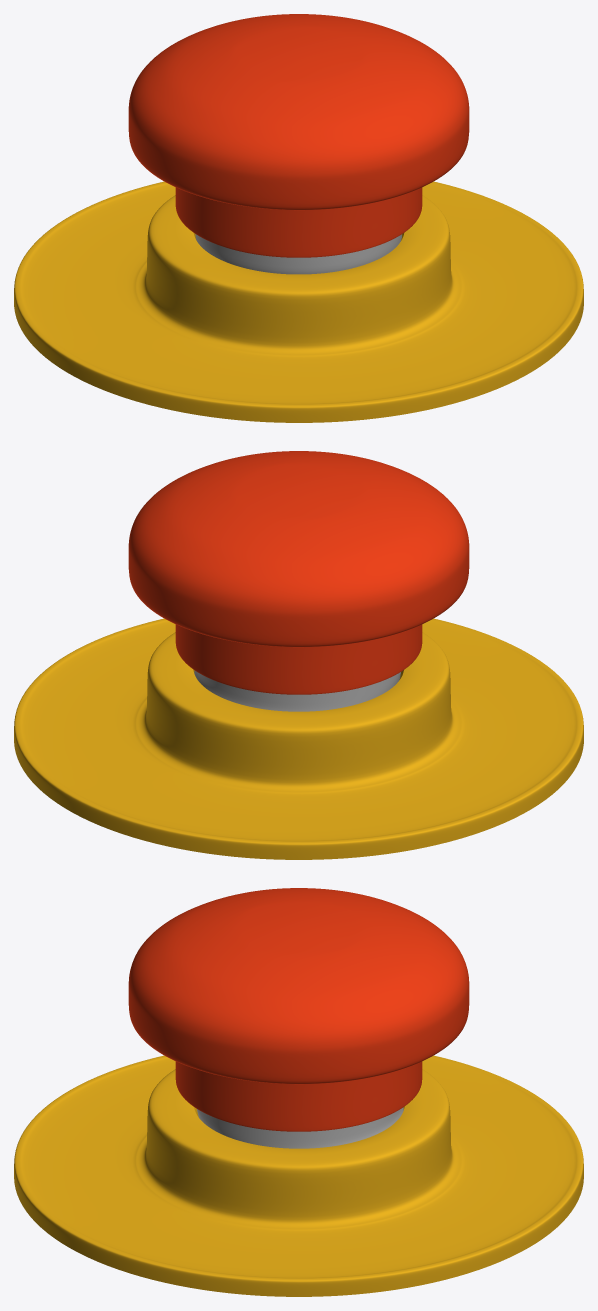
Rendered from LastButtonB.fbx.
3 views of the same model, one above another, from view 1: azimuth 30°, elevation 25°; view 2: azimuth 150°, elevation 25°; view 3: azimuth 270°, elevation 25° (orthographic).
Visible parts, largest first — view 1: Red pannic button; view 2: Red pannic button; view 3: Red pannic button.
Part boxes in pixels (x1,y1,x2,y2): Red pannic button: (14, 14, 583, 422); Red pannic button: (14, 451, 583, 859); Red pannic button: (14, 888, 583, 1296).
Bounding box in the file's own units: 22.68 × 11.04 × 22.68.
